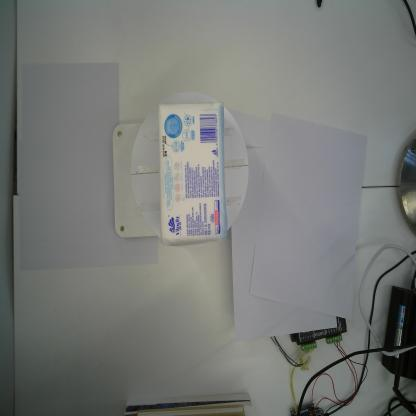Tissue: (156, 101, 229, 248)
